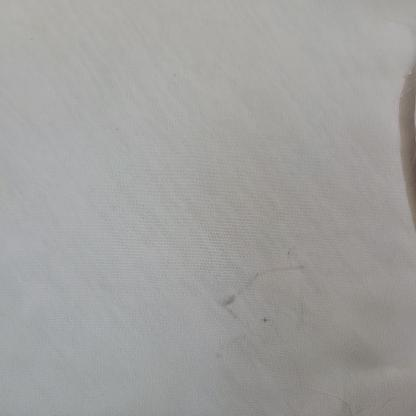spot: (219, 264, 316, 311), (257, 312, 278, 328), (286, 251, 293, 258)
